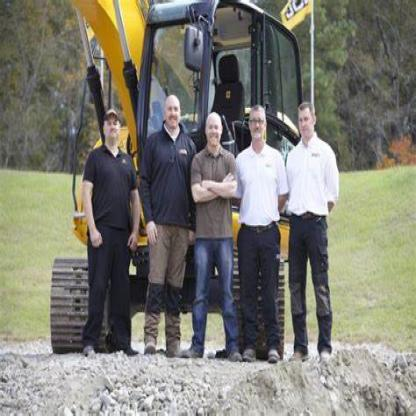person: (76, 98, 137, 364), (284, 87, 340, 365), (185, 79, 238, 371), (136, 64, 184, 368), (240, 93, 282, 362)
